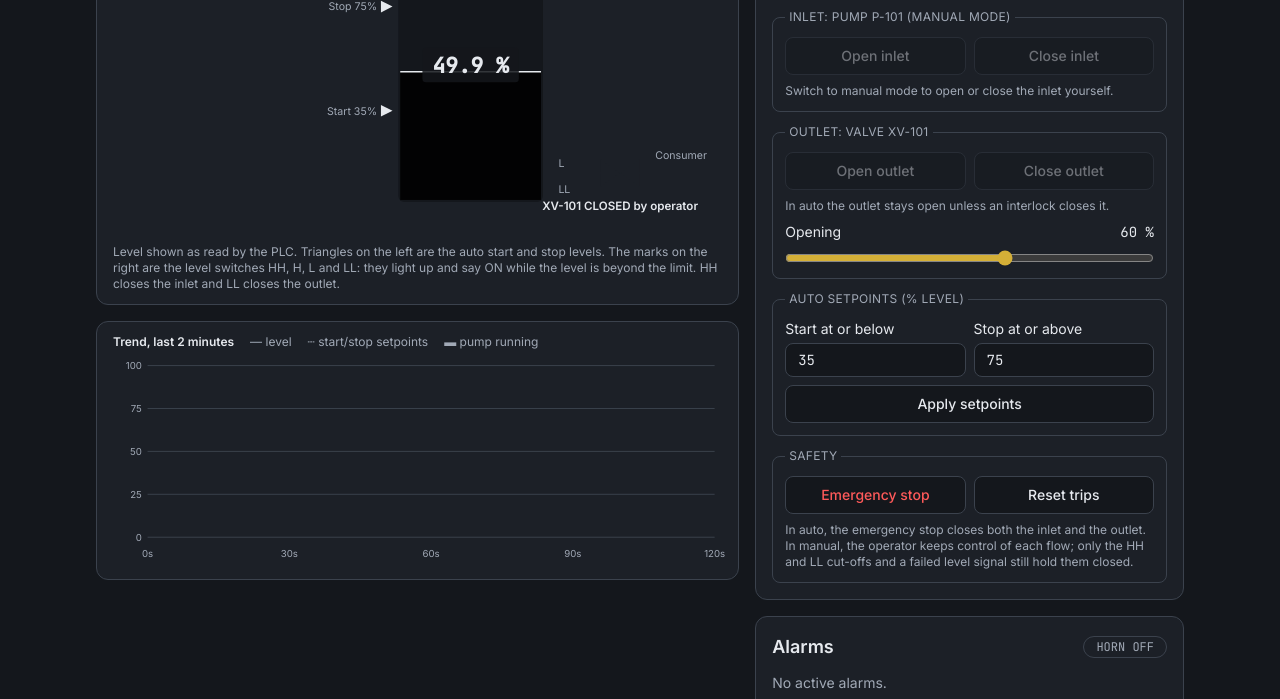
Test: setpoints › applies valid setpoints
(page scrolled)
Replace the text in the number field labelled "Start at or below" with "40" at point(875, 360), box [785,343,966,377]
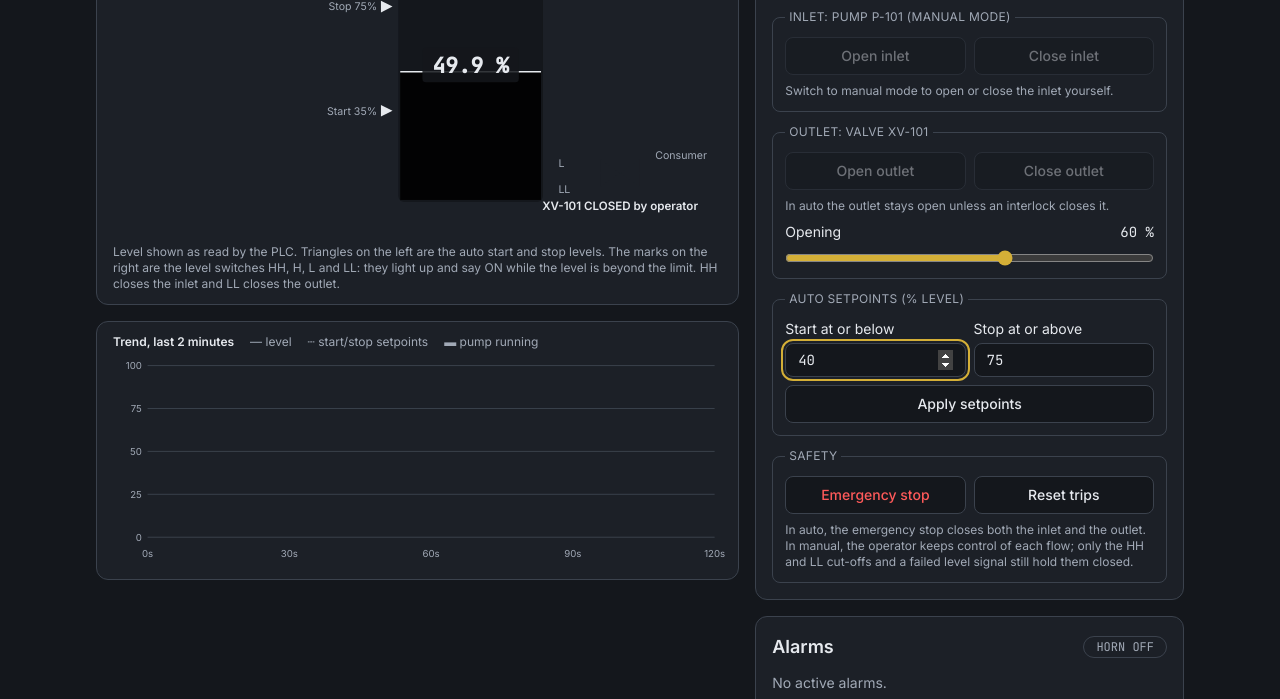
Replace the text in the number field labelled "Stop at or above" with "70" at point(1064, 360), box [974,343,1154,377]
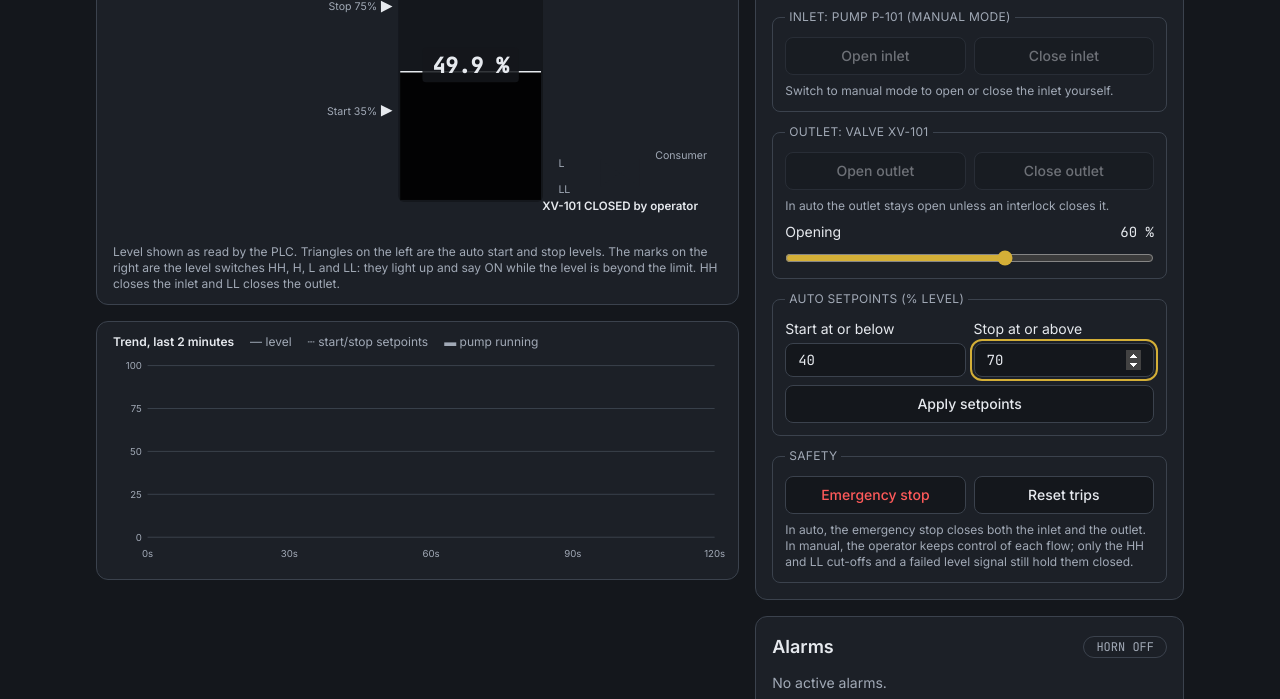
Click the button "Apply setpoints".
click(970, 404)  # box [785,385,1154,423]
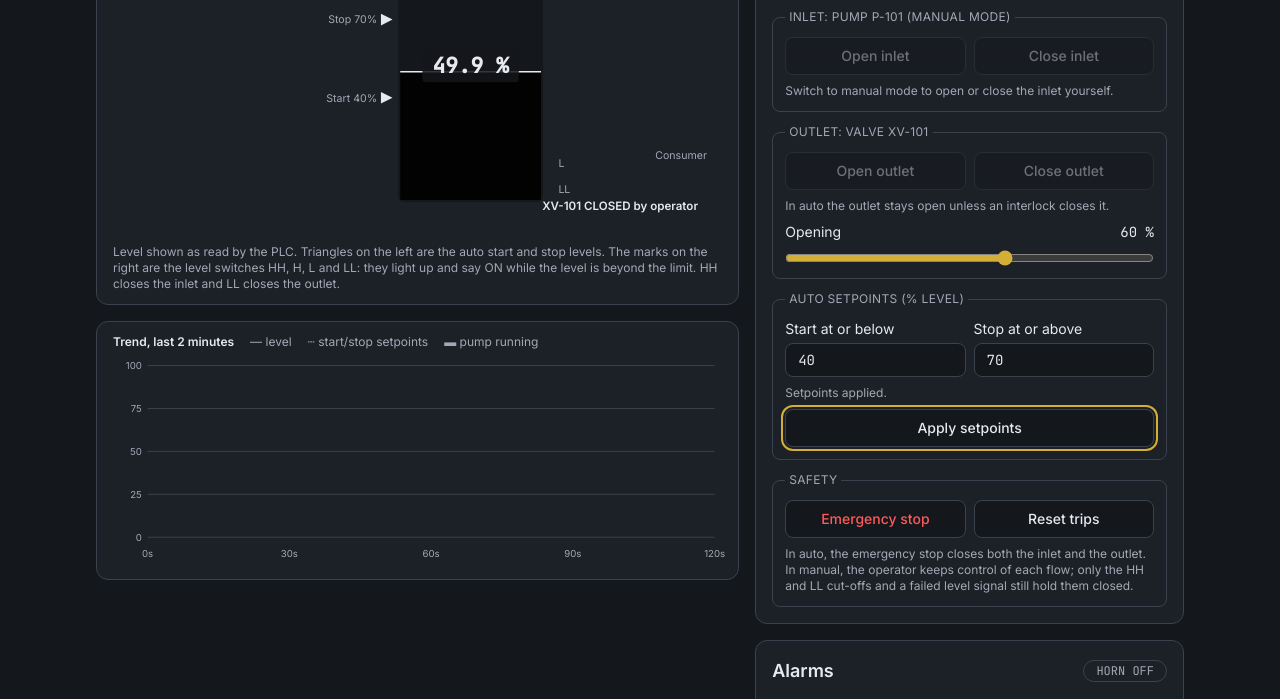
Expected: the text "Start 40%" is shown, [326,92,377,105]
Expected: the text "Setpoints applied." is shown, [785,385,887,400]
